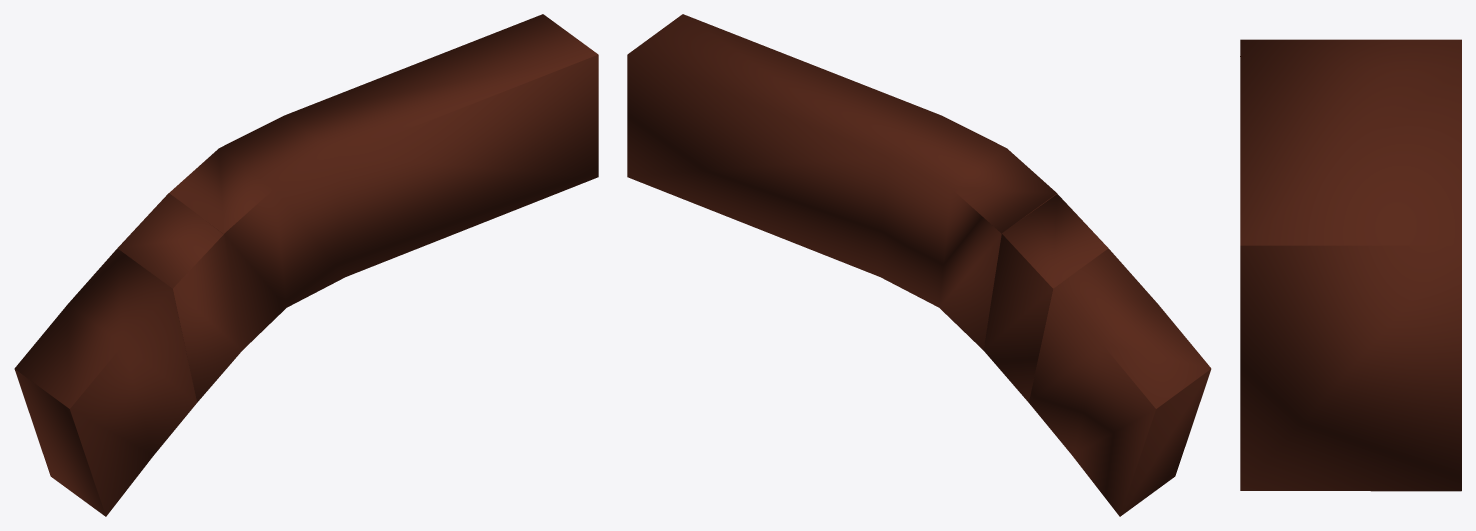
File: crest.obj
3 renders of one model, left to right at view 1: azimuth 30°, elevation 25°; view 2: azimuth 150°, elevation 25°; view 3: azimuth 270°, elevation 25°, orthographic. The views are drawn at different scales.
Parts seen in each view (by area): view 1: Parasaurolophus_Crest; view 2: Parasaurolophus_Crest; view 3: Parasaurolophus_Crest.
Boxes of the visible parts, x1,y1,x2,y2 form: Parasaurolophus_Crest: [14, 14, 598, 516]; Parasaurolophus_Crest: [627, 14, 1211, 516]; Parasaurolophus_Crest: [1240, 39, 1461, 491].
Size of the model in its own units: 4.96 by 3.07 by 0.901.
